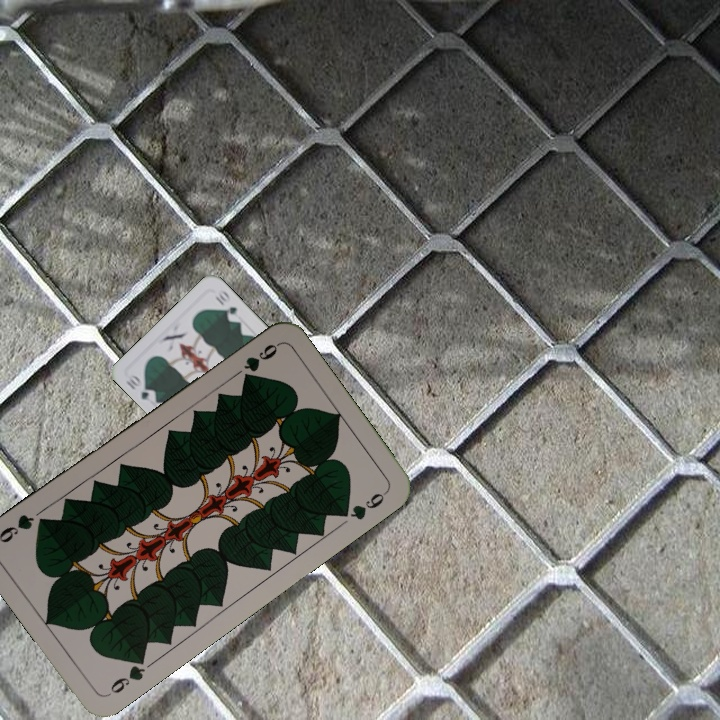G10: (121, 371, 159, 405)
G9: (104, 650, 148, 699), (230, 339, 281, 380)
